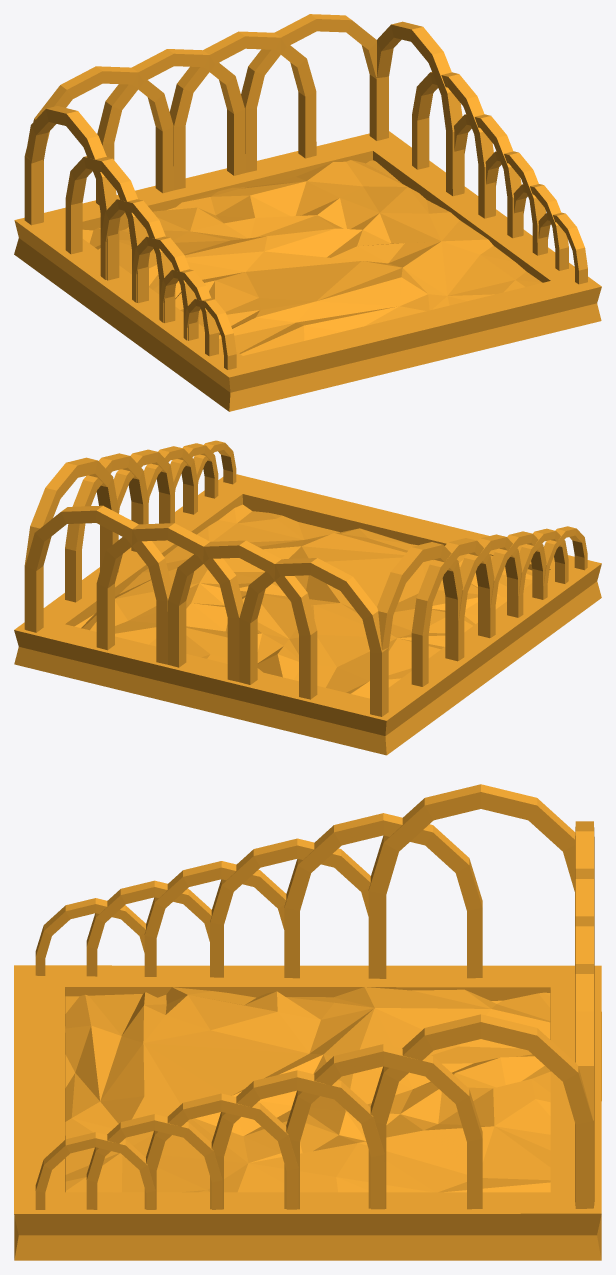
Rendered from SM_Tree_Pot_City_C_1m.fbx.
3 renders of one model, top to bottom at view 1: azimuth 30°, elevation 25°; view 2: azimuth 150°, elevation 25°; view 3: azimuth 270°, elevation 25°, orthographic. The views are drawn at different scales.
Parts seen in each view (by area): view 1: SM_Tree_Pot_City_C_1m; view 2: SM_Tree_Pot_City_C_1m; view 3: SM_Tree_Pot_City_C_1m.
Boxes of the visible parts, left/top/right/bottom form: SM_Tree_Pot_City_C_1m: left=14, top=14, right=601, bottom=411; SM_Tree_Pot_City_C_1m: left=14, top=440, right=601, bottom=755; SM_Tree_Pot_City_C_1m: left=14, top=784, right=601, bottom=1260.
Size of the model in its own units: 1.09 by 0.4789 by 1.09.
